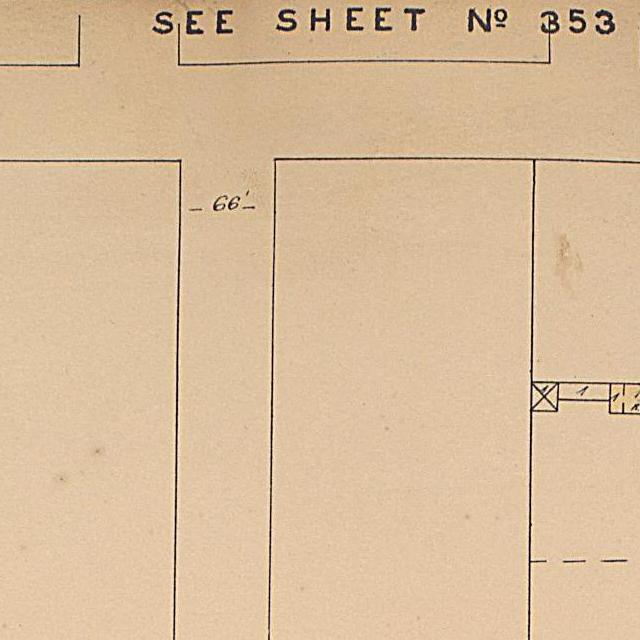building-footprints: (609, 384, 640, 414), (558, 383, 611, 400), (531, 381, 558, 411)
